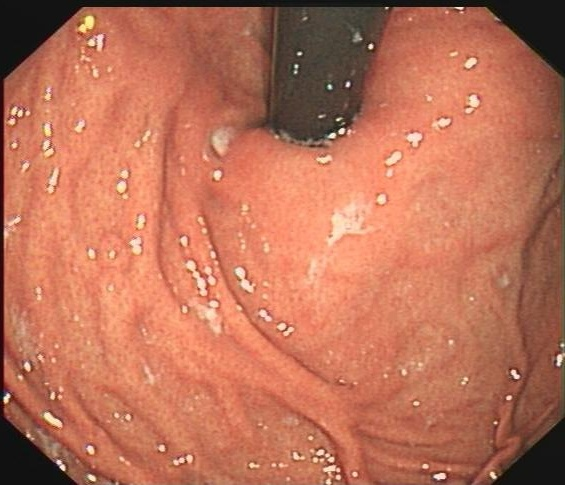Polyp: (84, 225, 138, 289)
